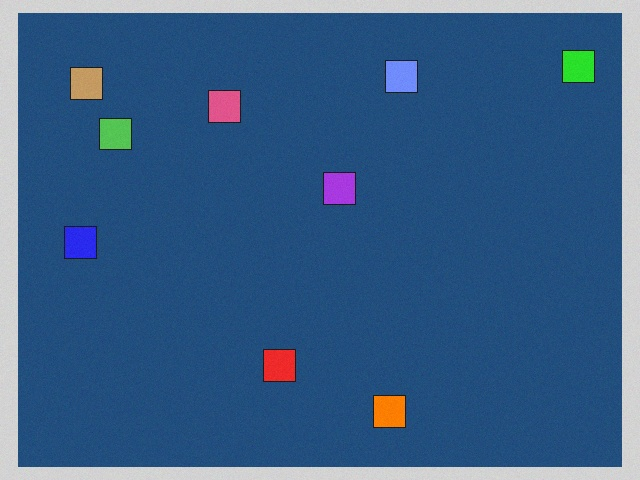block: (549, 50, 594, 91), (71, 67, 114, 107), (100, 118, 142, 155), (208, 90, 245, 129), (382, 60, 418, 100), (64, 227, 108, 259), (370, 387, 405, 427), (263, 343, 296, 381), (323, 173, 355, 206)
